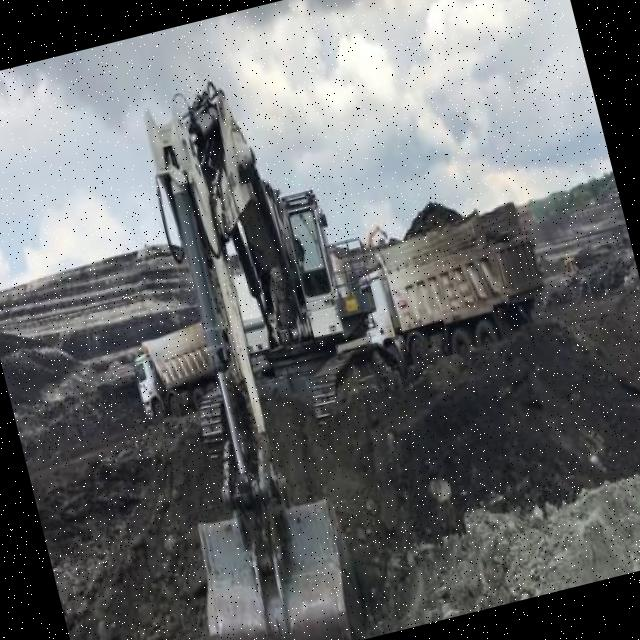Dump Truck: (358, 194, 559, 387), (110, 308, 214, 416)
Excavator: (71, 40, 463, 640)
